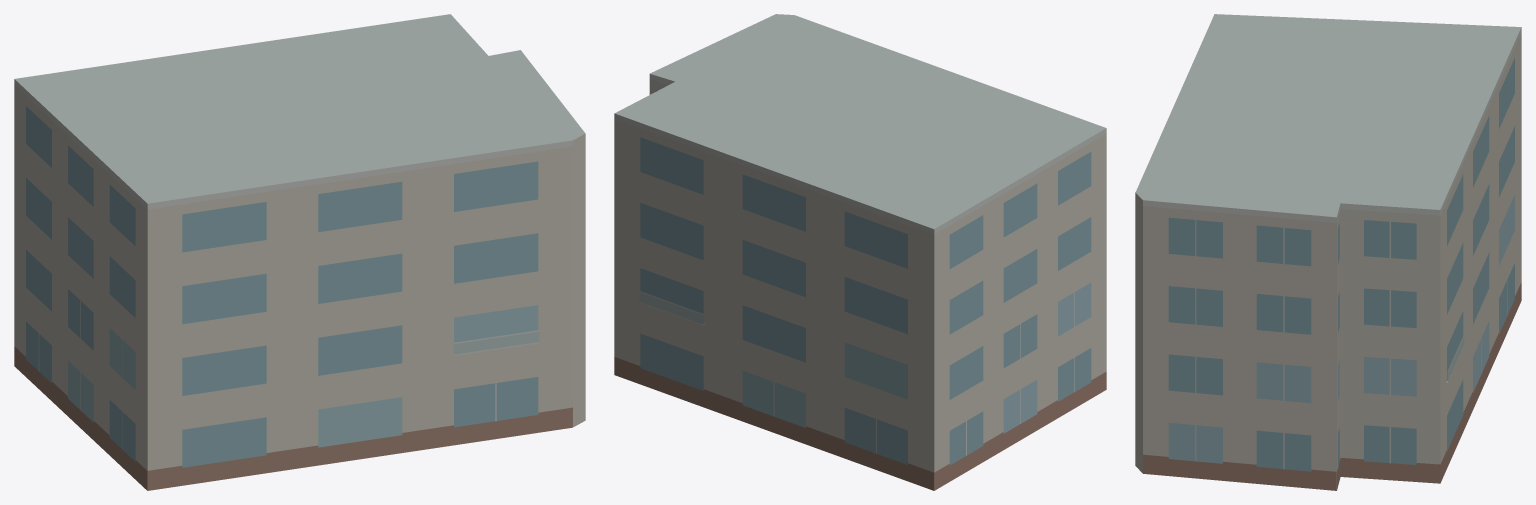
File: survey-upis-33045251.glb
3 renders of one model, left to right at view 1: azimuth 30°, elevation 25°; view 2: azimuth 150°, elevation 25°; view 3: azimuth 270°, elevation 25°, orthographic. The views are drawn at different scales.
Parts seen in each view (by area): view 1: survey-upis-33045251.tmp; view 2: survey-upis-33045251.tmp; view 3: survey-upis-33045251.tmp.
Part boxes in pixels (<box>): survey-upis-33045251.tmp: <box>14,14,585,490</box>; survey-upis-33045251.tmp: <box>614,14,1106,490</box>; survey-upis-33045251.tmp: <box>1135,14,1521,490</box>.
Size of the model in its own units: 18.66 by 11.7 by 14.97.
